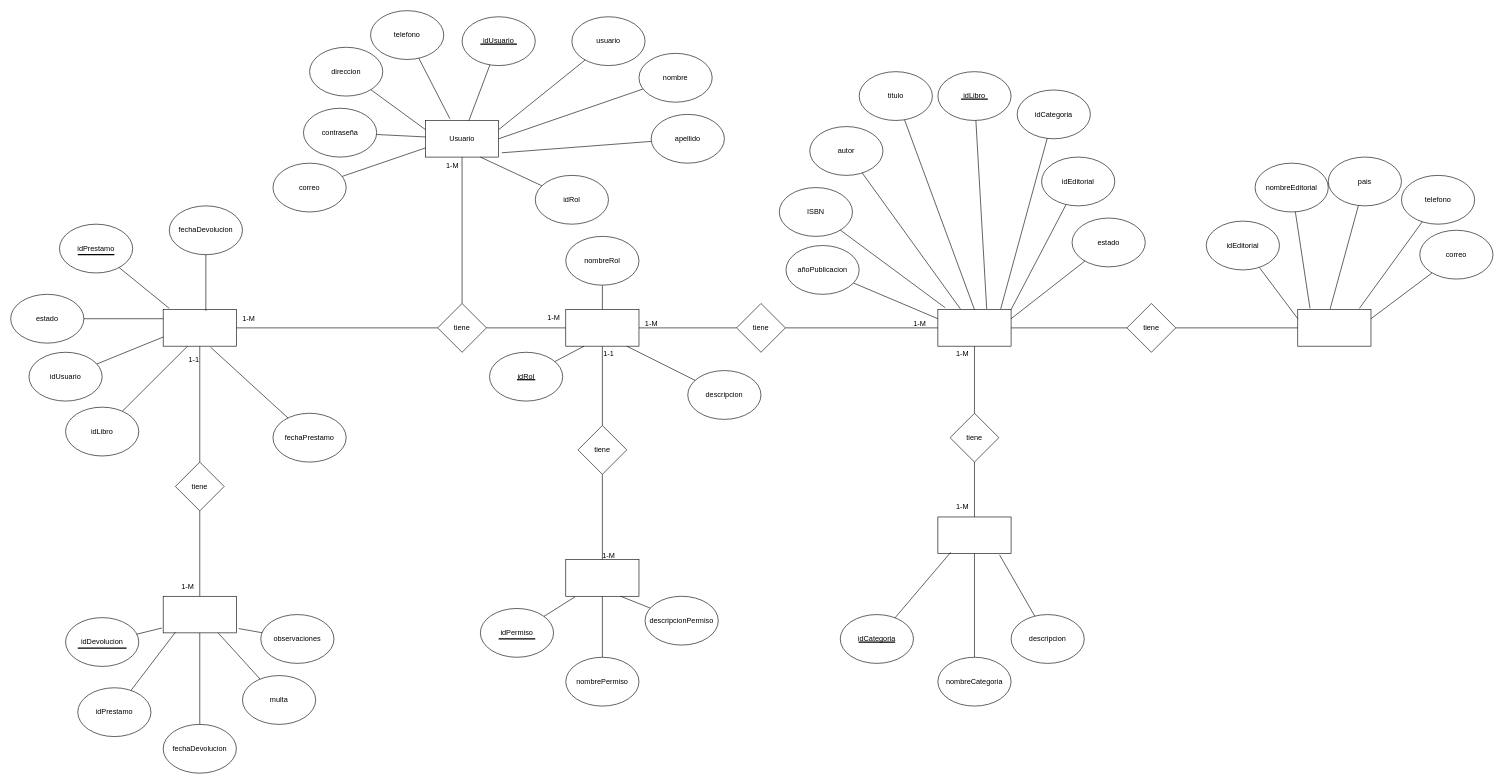
Some shapes in this 1504 by 784 pixel diagram are drawn without their labels. Each missing label, with the centre of its shape:
Categoria: the point at 974,535
Devoluciones: the point at 199,614
Editorial: the point at 1334,327
Libros: the point at 974,327
Permisos: the point at 602,577
Prestamos: the point at 199,327
Roles: the point at 602,327
